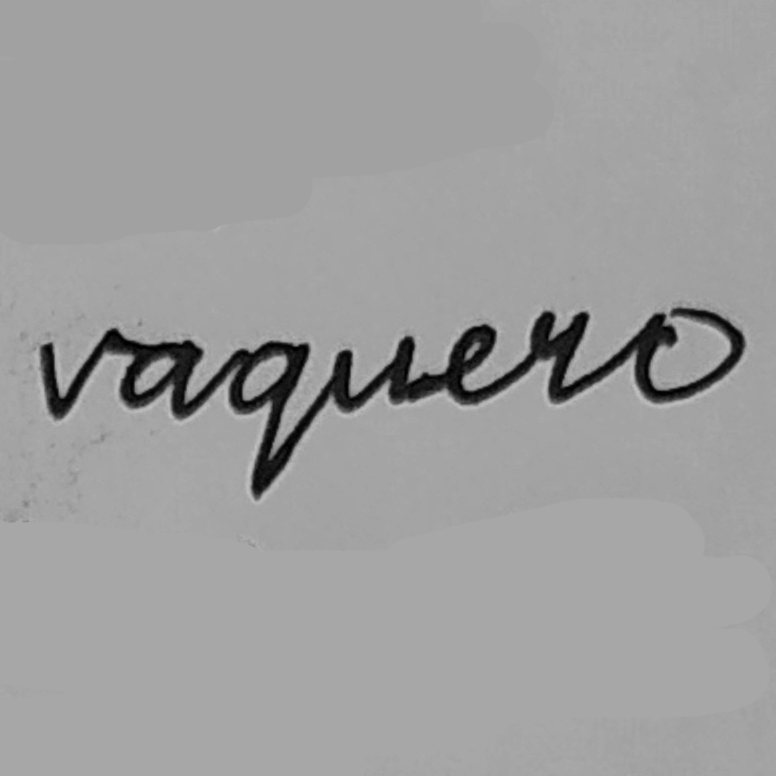a: (115, 336, 206, 422)
e: (437, 319, 509, 410)
o: (625, 299, 752, 409)
q: (221, 334, 315, 503)
r: (523, 303, 602, 412)
u: (327, 331, 422, 415)
v: (33, 324, 126, 424)
